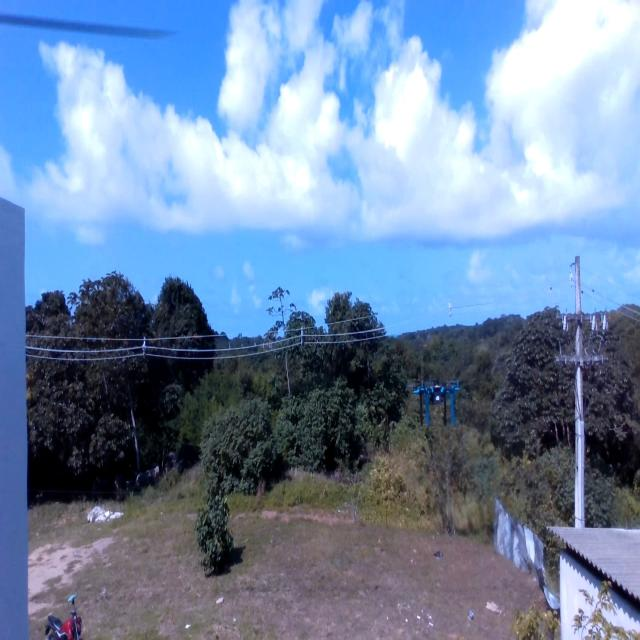-uav-: (407, 365, 466, 436)
